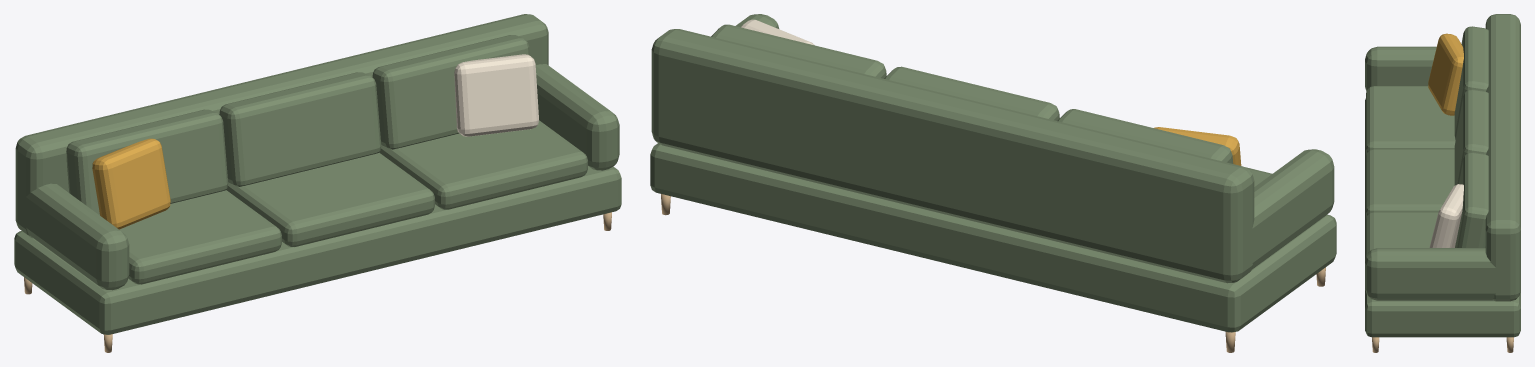
File: sofaThreeSeat.glb
3 renders of one model, left to right at view 1: azimuth 30°, elevation 25°; view 2: azimuth 150°, elevation 25°; view 3: azimuth 270°, elevation 25°, orthographic. The views are drawn at different scales.
Visible parts, largest first — view 1: sofa, seat; view 2: sofa; view 3: sofa, seat.
Part boxes in pixels (box(x1,y1,x2,y2)): sofa: box(14, 14, 621, 352); seat: box(119, 120, 587, 284); sofa: box(650, 14, 1336, 352); sofa: box(1365, 14, 1520, 352); seat: box(1366, 86, 1455, 256).
Bounding box in the file's own units: 2.86 × 0.823 × 0.88.
